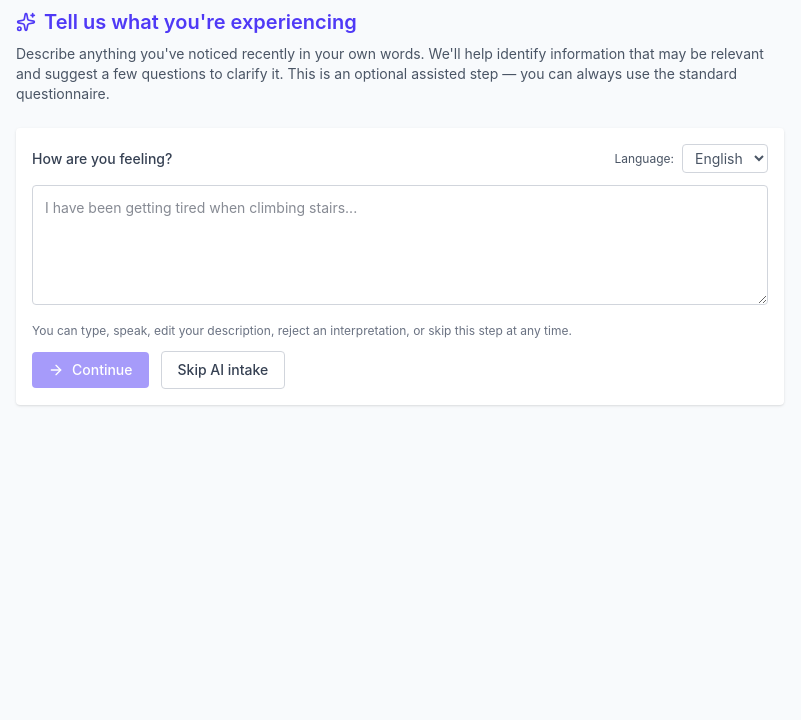
IntakePage › submits text and shows extracted observations
Type "I get tired on exertion" into the text box at (400, 245), box [32, 185, 768, 305]
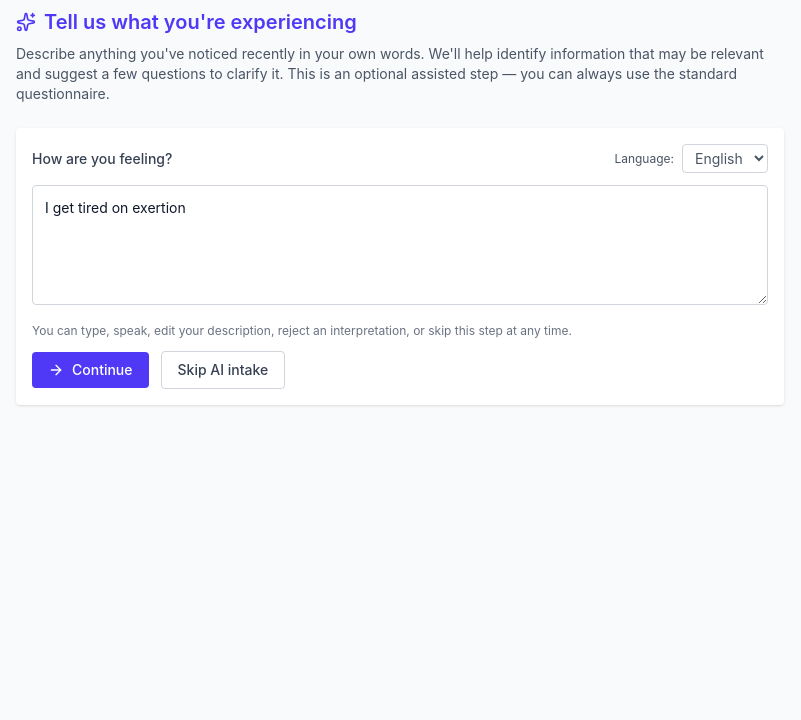
Click the button "Continue" at (90, 370), box [32, 352, 148, 388]
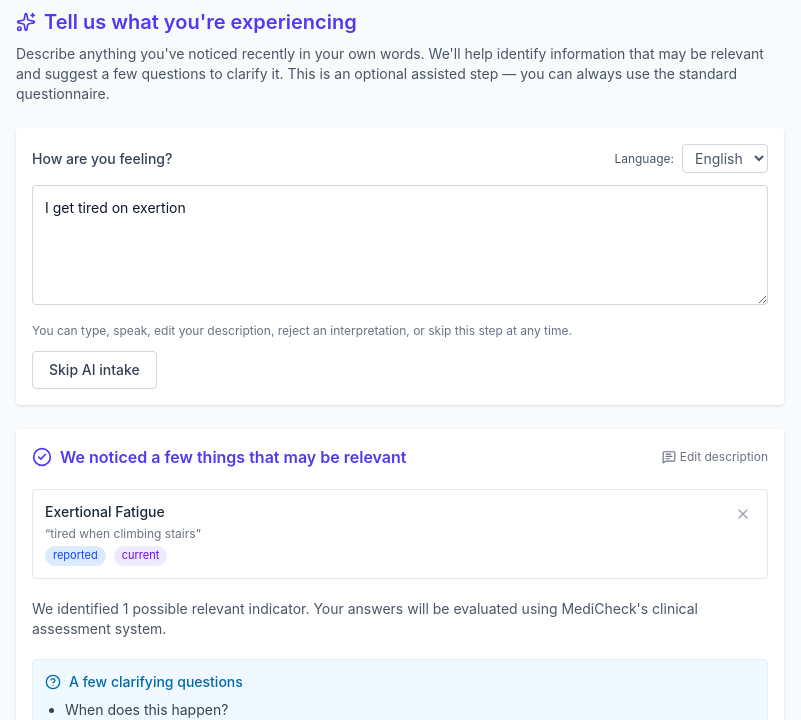
Expected: the heading "We noticed a few things that may be relevant" is shown, [60, 445, 406, 469]
Expected: the text "Exertional Fatigue" is shown, [45, 503, 165, 520]
